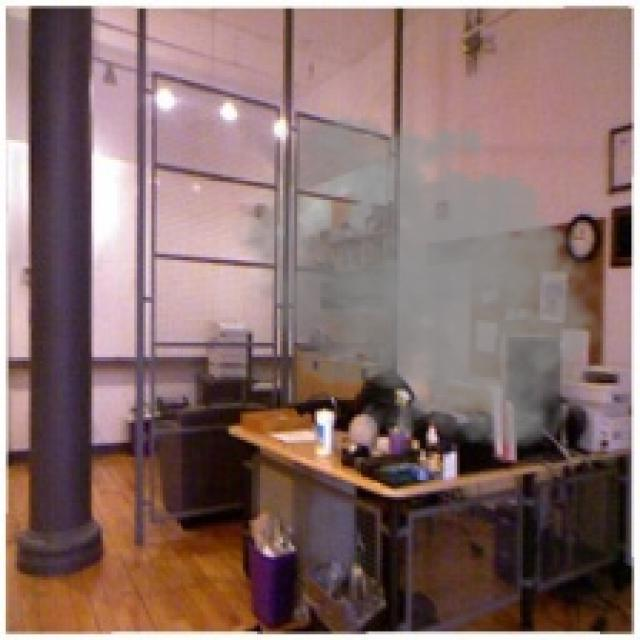smoke: (217, 103, 614, 454)
